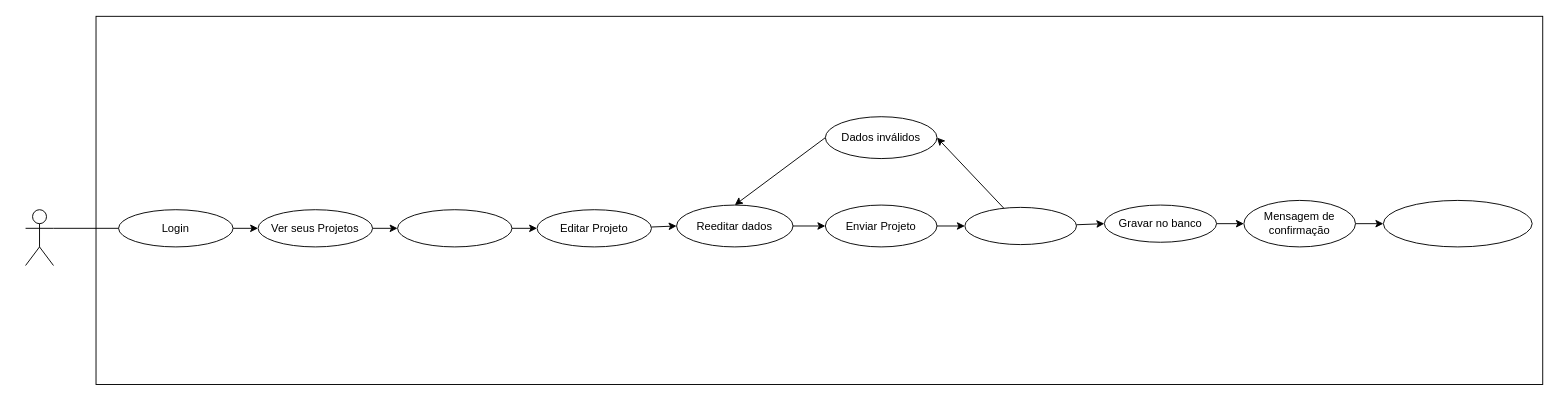
This 1560x401 diagram has some shape labels left out. Each missing label, with the centre of its shape:
Professor: point 39,237
Selecionar Projeto: point 454,228
Validar dados: point 1020,225
Volta // Tela inicial: point 1457,223
